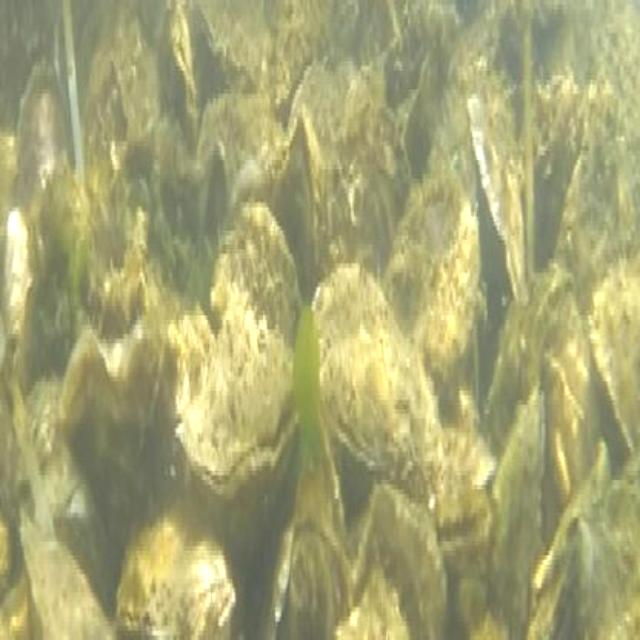Oyster-Closed: (312, 259, 441, 494), (178, 290, 299, 522), (212, 204, 305, 361), (357, 490, 453, 640), (116, 522, 233, 640), (469, 96, 527, 314), (492, 388, 544, 624), (29, 520, 111, 640), (272, 112, 323, 304), (279, 512, 355, 640), (592, 258, 640, 441), (10, 69, 72, 210), (426, 202, 478, 363), (424, 433, 498, 506), (160, 4, 196, 143)
Oyster-Open: (433, 484, 494, 565)
